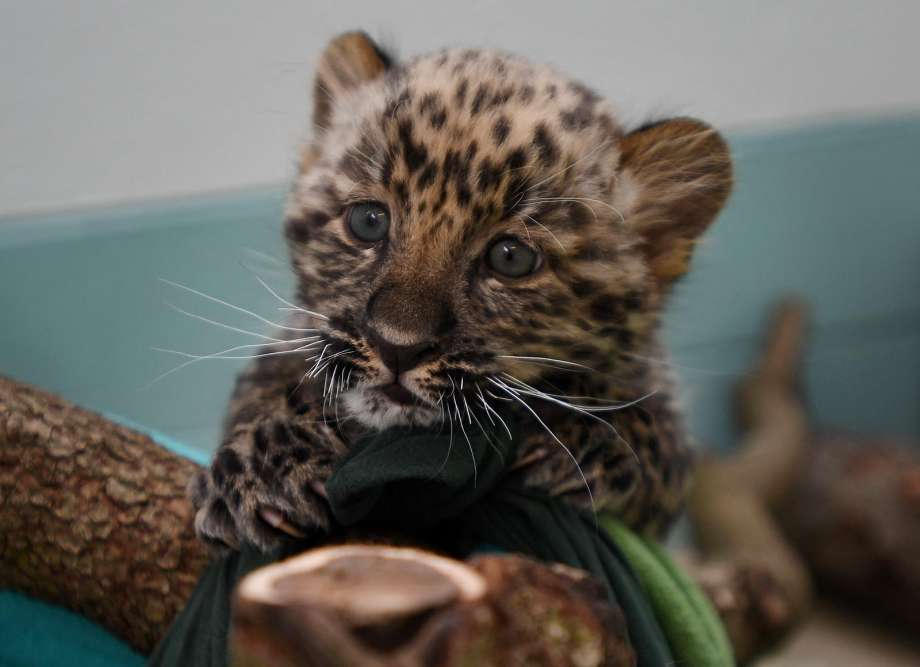amur_leopard: (191, 10, 755, 487)
